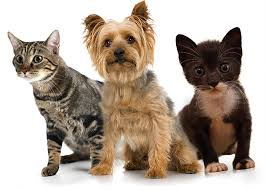cat: (4, 31, 96, 178), (174, 32, 259, 175)
dog: (86, 4, 183, 180)
